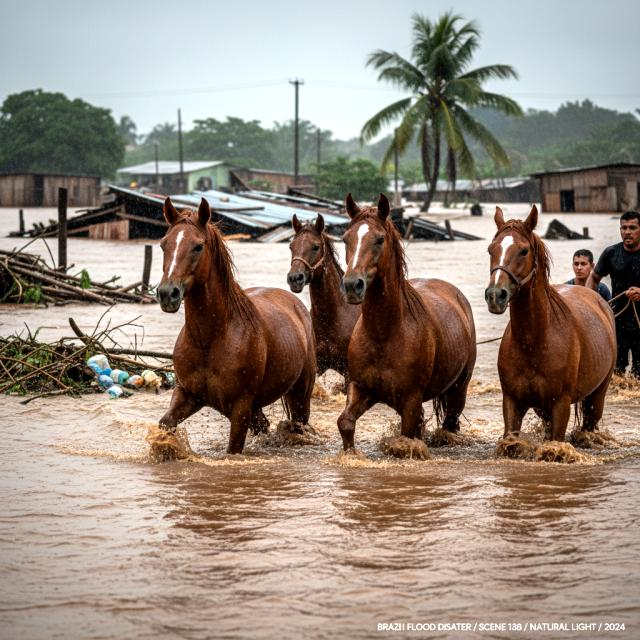civilian: (595, 207, 640, 392), (562, 245, 616, 312)
horse: (138, 199, 320, 455), (333, 188, 482, 458), (479, 206, 616, 449), (265, 200, 349, 389)
